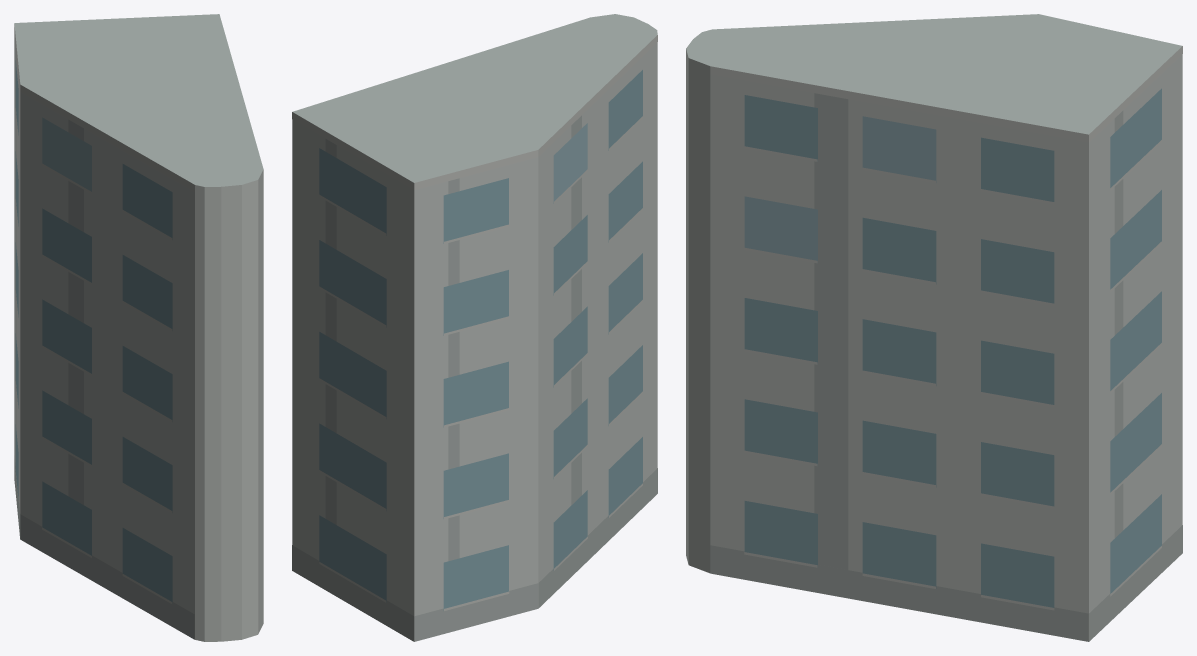
Rendered from survey-upis-32880203.glb.
3 views of the same model, side by side, from view 1: azimuth 30°, elevation 25°; view 2: azimuth 150°, elevation 25°; view 3: azimuth 270°, elevation 25° (orthographic). The views are drawn at different scales.
Visible parts, largest first — view 1: survey-upis-32880203.tmp; view 2: survey-upis-32880203.tmp; view 3: survey-upis-32880203.tmp.
Boxes of the visible parts, left/top/right/bottom form: survey-upis-32880203.tmp: left=14, top=14, right=263, bottom=641; survey-upis-32880203.tmp: left=292, top=14, right=657, bottom=641; survey-upis-32880203.tmp: left=686, top=14, right=1182, bottom=641.
Size of the model in its own units: 7.78 by 15.25 by 13.54.
